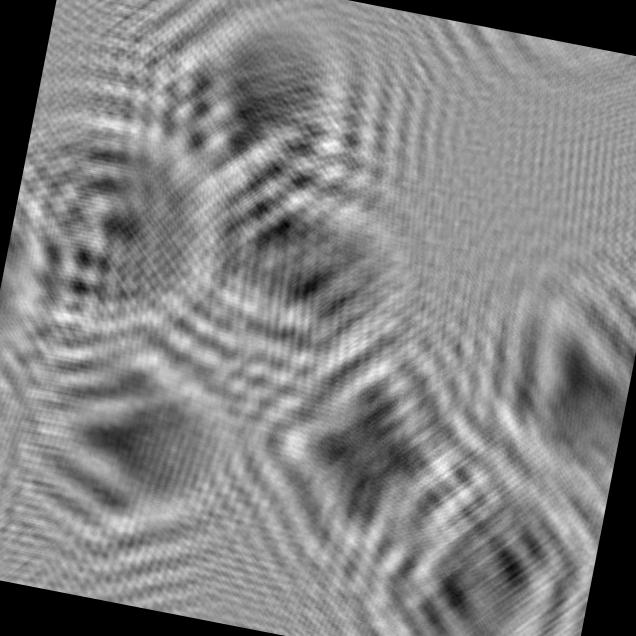U: (0, 80, 254, 359)
V: (0, 292, 285, 579), (124, 0, 406, 221), (435, 221, 636, 508)
X: (225, 294, 514, 611)
Z: (153, 108, 471, 409), (330, 433, 610, 636)
